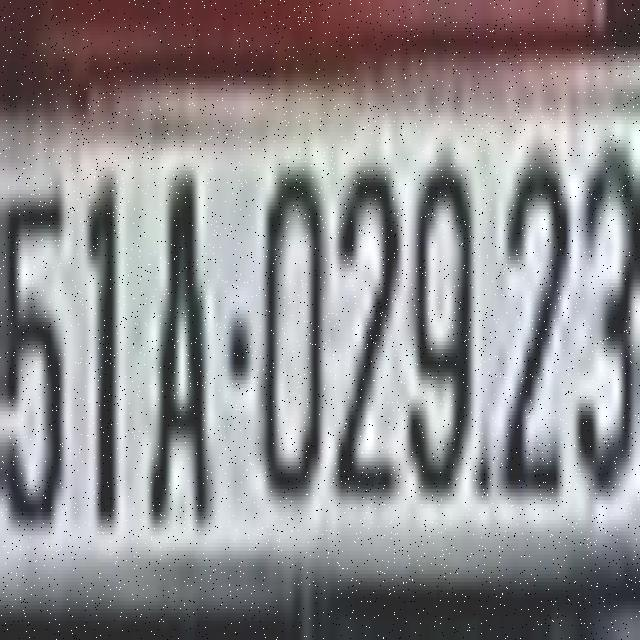0: (259, 143, 323, 516)
1: (83, 153, 127, 537)
2: (499, 134, 567, 506), (334, 147, 399, 512)
3: (577, 120, 638, 504)
5: (1, 167, 67, 539)
9: (408, 140, 472, 504)
A: (148, 152, 215, 536)
